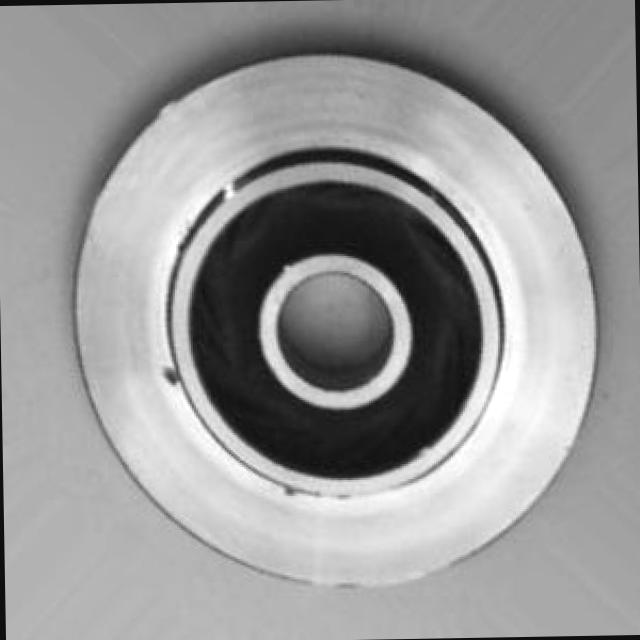Defect: (158, 360, 188, 390)
